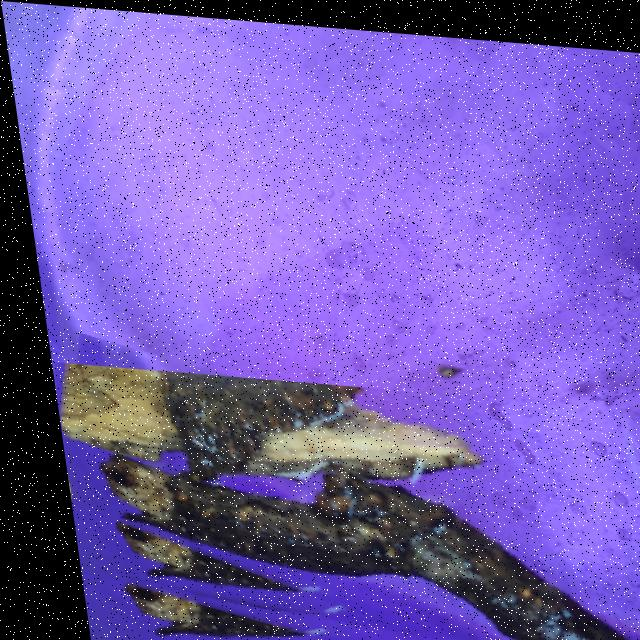wood: (40, 361, 640, 640)
